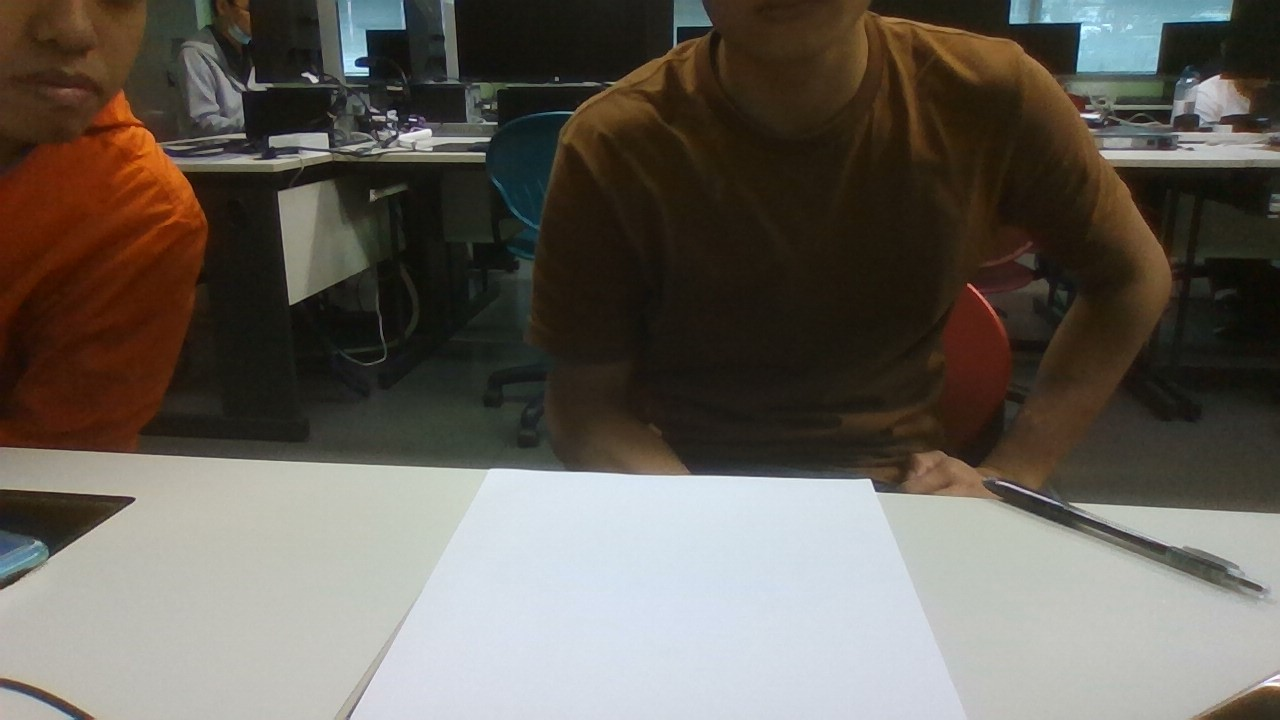pen: (980, 476, 1270, 607)
